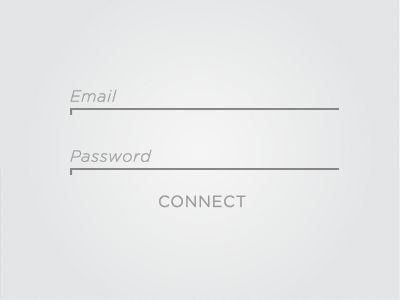_form_: (60, 72, 370, 254)
field_line: (69, 85, 341, 116), (70, 149, 342, 176)
